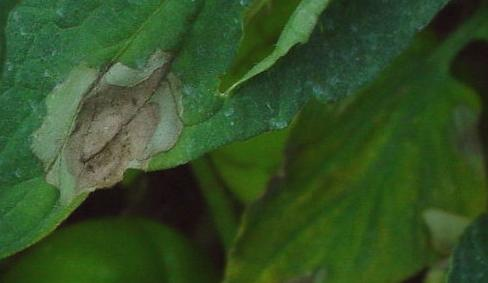Tomato leaf late blight: (0, 0, 488, 241)
